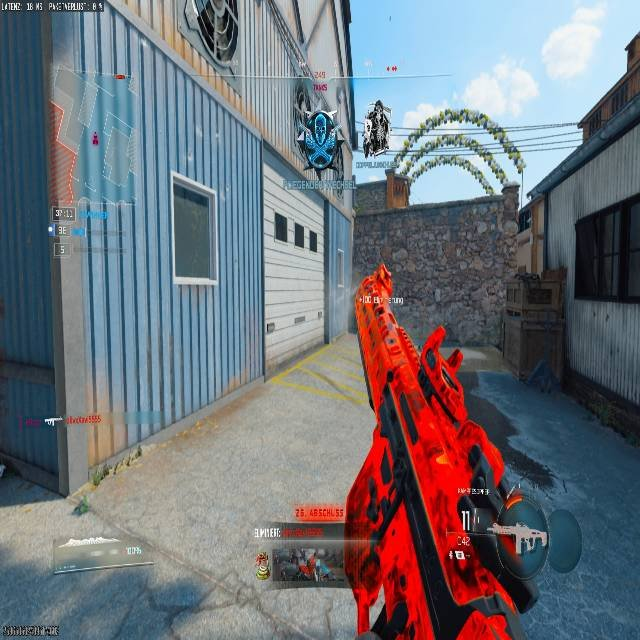player: (353, 264, 395, 391), (295, 105, 342, 178), (362, 99, 391, 156)
